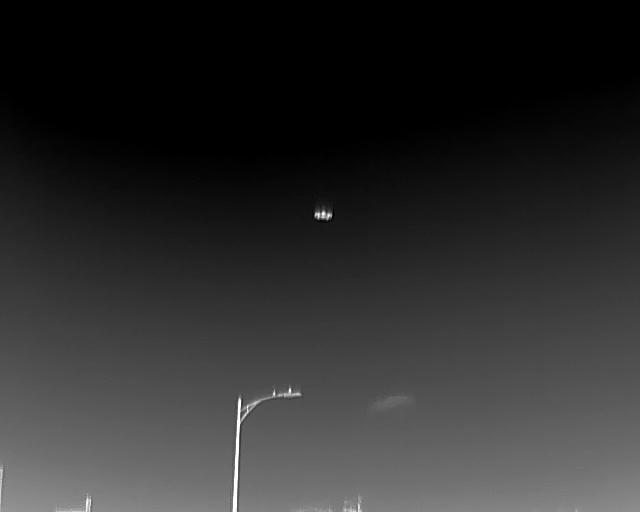fpv-drone: (314, 201, 333, 221)
